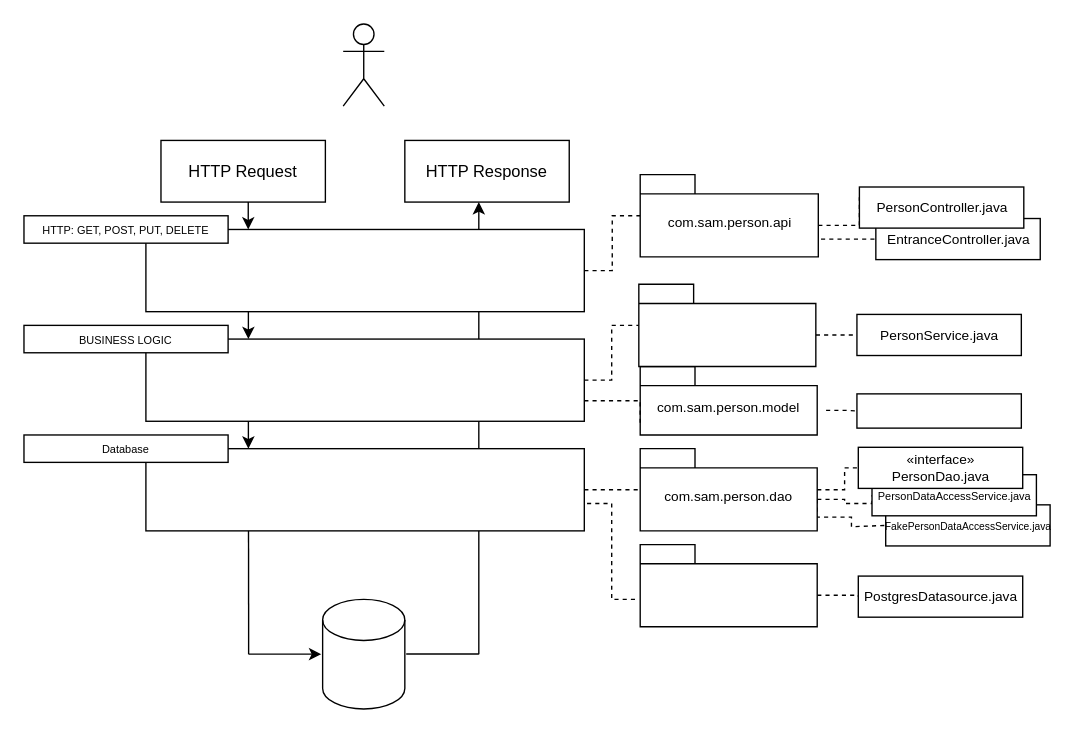
This 1074x733 diagram has some shape labels left out. The shapes that lost their labels are listed below. From the top down, each one's centre as x and y in pixels, then its label:
At point (363, 64): "User".
At point (364, 270): "API/Controller Layer".
At point (726, 324): "com.sam.person.service".
At point (364, 379): "Service Layer".
At point (938, 410): "Person.java".
At point (364, 489): "Data Access Layer".
At point (728, 585): "com.sam.person.datasource".
At point (363, 653): "PostgreSQL / InMemory".
